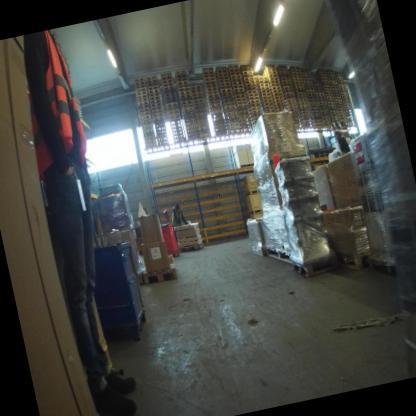pallet: (290, 251, 338, 281), (333, 249, 375, 276), (140, 261, 178, 287), (367, 251, 397, 280), (265, 241, 296, 267), (318, 100, 339, 118), (176, 243, 204, 254), (87, 406, 105, 416), (237, 161, 255, 170), (261, 66, 277, 76), (261, 63, 276, 73), (262, 68, 278, 77), (165, 104, 180, 113), (218, 86, 233, 95), (244, 88, 259, 97), (260, 100, 275, 109), (288, 63, 301, 73), (150, 104, 164, 113), (167, 112, 181, 121), (217, 79, 231, 88), (247, 101, 261, 110), (246, 97, 260, 106), (246, 94, 260, 103), (245, 91, 259, 100), (261, 103, 275, 112), (255, 77, 269, 86), (254, 73, 268, 82), (264, 71, 278, 80), (227, 126, 242, 134), (226, 123, 241, 131), (225, 120, 240, 128), (224, 114, 239, 122), (223, 110, 238, 118), (222, 103, 237, 111), (313, 149, 330, 156), (243, 78, 256, 87), (242, 75, 255, 84), (284, 96, 297, 105), (280, 80, 293, 89), (277, 68, 290, 77), (275, 62, 288, 71), (293, 84, 306, 93), (314, 67, 327, 76), (135, 96, 149, 104), (148, 94, 162, 102), (147, 87, 161, 95), (166, 108, 180, 116), (165, 101, 179, 109), (164, 97, 178, 105), (163, 91, 177, 99), (183, 116, 197, 124), (182, 109, 196, 117), (181, 105, 195, 113), (176, 81, 190, 89), (173, 68, 187, 76), (208, 104, 222, 112), (205, 88, 219, 96), (204, 85, 218, 93), (202, 75, 216, 83), (225, 117, 239, 125), (223, 106, 237, 114), (220, 93, 234, 101), (219, 90, 233, 98), (218, 83, 232, 91), (216, 73, 230, 81), (215, 70, 229, 78), (248, 105, 262, 113), (244, 84, 258, 92), (243, 82, 257, 90), (262, 107, 276, 115), (259, 97, 273, 105), (259, 94, 273, 102), (258, 90, 272, 98), (257, 87, 271, 95), (257, 84, 271, 92), (256, 81, 270, 89), (314, 152, 330, 159), (274, 99, 286, 108), (279, 74, 291, 83), (295, 89, 307, 98), (203, 82, 218, 89), (221, 100, 236, 107), (138, 107, 151, 115), (137, 103, 150, 111), (135, 89, 148, 97), (153, 117, 166, 125), (152, 114, 165, 122), (150, 101, 163, 109), (162, 84, 175, 92), (159, 70, 172, 78), (181, 102, 194, 110), (180, 98, 193, 106), (179, 92, 192, 100), (177, 85, 190, 93), (175, 75, 188, 83), (201, 65, 214, 73), (215, 67, 228, 75), (235, 99, 248, 107), (234, 95, 247, 103), (233, 92, 246, 100), (231, 82, 244, 90), (249, 108, 262, 116), (275, 106, 288, 114), (272, 93, 285, 101), (286, 102, 299, 110), (285, 99, 298, 107), (283, 93, 296, 101), (283, 90, 296, 98), (276, 66, 289, 74), (295, 93, 308, 101), (290, 73, 303, 81), (316, 75, 329, 83), (315, 72, 328, 80), (315, 70, 328, 78), (136, 100, 150, 107), (146, 84, 160, 91), (163, 94, 177, 101), (162, 88, 176, 95), (207, 101, 221, 108), (207, 98, 221, 105), (206, 95, 220, 102), (203, 79, 217, 86), (221, 97, 235, 104), (217, 77, 231, 84), (214, 64, 228, 71), (249, 112, 263, 119), (145, 141, 157, 149), (145, 73, 157, 81), (169, 118, 181, 126), (230, 75, 242, 83), (227, 62, 239, 70), (271, 87, 283, 95), (269, 80, 281, 88), (268, 74, 280, 82), (282, 87, 294, 95), (280, 78, 292, 86), (300, 111, 312, 119), (299, 105, 311, 113), (298, 102, 310, 110), (297, 99, 309, 107), (296, 96, 308, 104), (294, 87, 306, 95), (292, 78, 304, 86), (291, 76, 303, 84), (290, 70, 302, 78), (289, 67, 301, 75), (312, 120, 324, 128), (312, 117, 324, 125), (311, 114, 323, 122), (310, 111, 322, 119), (142, 131, 155, 138), (139, 114, 152, 121), (135, 93, 148, 100), (134, 86, 147, 93), (133, 80, 146, 87), (132, 76, 145, 83), (154, 125, 167, 132), (151, 109, 164, 116), (149, 98, 162, 105), (148, 91, 161, 98), (146, 81, 159, 88), (145, 78, 158, 85), (161, 78, 174, 85), (160, 74, 173, 81), (187, 133, 200, 140), (186, 127, 199, 134), (185, 123, 198, 130), (183, 113, 196, 120), (180, 96, 193, 103), (178, 89, 191, 96), (176, 79, 189, 86), (175, 72, 188, 79), (193, 101, 206, 108), (189, 84, 202, 91), (206, 92, 219, 99), (202, 72, 215, 79), (202, 69, 215, 76), (232, 86, 245, 93), (229, 73, 242, 80), (241, 72, 254, 79), (271, 90, 284, 97), (281, 84, 294, 91), (278, 72, 291, 79), (197, 121, 210, 128), (195, 110, 208, 117), (269, 77, 280, 85), (300, 109, 311, 117), (308, 99, 319, 107), (306, 91, 317, 99), (143, 135, 155, 142), (140, 118, 152, 125), (134, 83, 146, 90), (157, 139, 169, 146), (156, 135, 168, 142), (156, 132, 168, 139), (155, 128, 167, 135), (173, 136, 185, 143), (171, 126, 183, 133), (162, 81, 174, 88), (184, 120, 198, 126), (195, 107, 207, 114), (194, 104, 206, 111), (192, 97, 204, 104), (191, 91, 203, 98), (190, 87, 202, 94), (233, 89, 245, 96), (231, 79, 243, 86), (229, 69, 241, 76), (228, 66, 240, 73), (241, 69, 253, 76), (240, 66, 252, 73), (239, 62, 251, 69), (275, 103, 287, 110), (273, 97, 285, 104), (270, 84, 282, 91), (287, 106, 299, 113), (293, 82, 305, 89), (310, 109, 322, 116), (200, 132, 212, 139), (199, 128, 211, 135), (198, 125, 210, 132), (196, 114, 208, 121), (320, 77, 330, 85), (151, 112, 164, 118), (187, 131, 200, 137), (196, 118, 209, 124), (172, 129, 183, 136), (310, 106, 321, 113), (309, 103, 320, 110), (307, 94, 318, 101), (144, 138, 156, 144), (142, 128, 154, 134), (141, 124, 153, 130), (141, 122, 153, 128), (139, 111, 151, 117), (154, 122, 166, 128), (172, 133, 184, 139), (170, 123, 182, 129), (192, 94, 204, 100), (326, 67, 335, 75), (250, 115, 260, 122), (308, 97, 318, 104), (334, 100, 344, 107), (317, 96, 327, 103), (313, 85, 323, 92), (291, 109, 300, 116), (306, 88, 315, 95), (305, 85, 314, 92), (303, 76, 312, 83), (302, 73, 311, 80), (301, 70, 310, 77), (334, 98, 343, 105), (316, 90, 325, 97), (312, 79, 321, 86), (327, 100, 336, 107), (326, 97, 335, 104), (324, 89, 333, 96), (323, 86, 332, 93), (322, 83, 331, 90), (332, 89, 341, 96), (331, 86, 340, 93), (330, 81, 339, 88), (329, 78, 338, 85), (328, 75, 337, 82), (327, 73, 336, 80), (326, 70, 335, 77), (342, 98, 351, 105), (303, 79, 313, 85), (328, 106, 338, 112), (314, 88, 324, 94), (321, 81, 331, 87), (321, 108, 329, 115), (344, 104, 352, 111), (343, 101, 351, 108), (341, 93, 349, 100), (339, 85, 347, 92), (338, 82, 346, 89), (334, 69, 342, 76), (304, 82, 313, 88), (323, 121, 332, 127), (321, 111, 330, 117), (319, 103, 328, 109), (329, 109, 338, 115), (335, 104, 344, 110), (328, 104, 337, 110), (317, 94, 326, 100), (313, 82, 322, 88), (325, 95, 334, 101), (325, 92, 334, 98), (333, 95, 342, 101), (251, 119, 258, 126), (323, 118, 331, 124), (322, 115, 330, 121), (338, 109, 346, 115), (337, 106, 345, 112), (333, 93, 341, 99), (331, 84, 339, 90), (340, 91, 348, 97), (336, 77, 344, 83), (336, 75, 344, 81), (335, 72, 343, 78), (342, 96, 349, 102), (340, 88, 347, 94), (338, 80, 345, 86), (320, 106, 328, 111), (252, 123, 257, 129)
pallet_truck: (156, 208, 181, 260)
